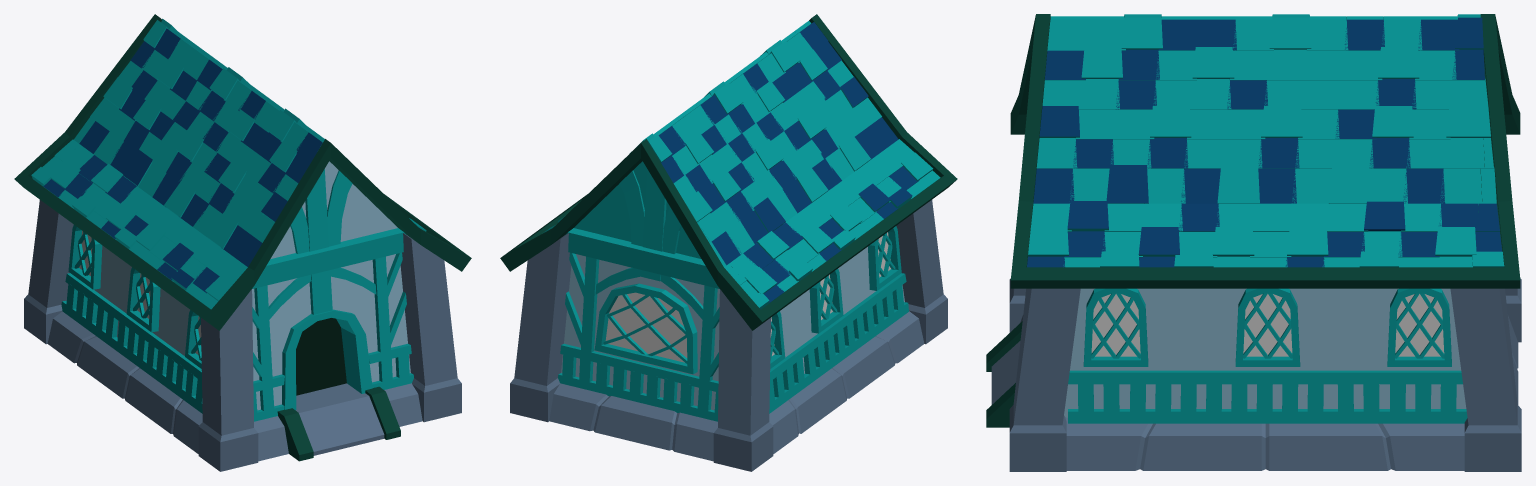
Rendered from SM_Hous_16_A.gltf.
3 renders of one model, left to right at view 1: azimuth 30°, elevation 25°; view 2: azimuth 150°, elevation 25°; view 3: azimuth 270°, elevation 25°, orthographic. The views are drawn at different scales.
Visible parts, largest first — view 1: SM_Hous_16_A; view 2: SM_Hous_16_A; view 3: SM_Hous_16_A.
Boxes of the visible parts, box(x1,y1,x2,y2) form: SM_Hous_16_A: box(14, 14, 471, 471); SM_Hous_16_A: box(500, 14, 957, 471); SM_Hous_16_A: box(986, 14, 1521, 471).
Bounding box in the file's own units: 7.99 × 8.51 × 10.83.
